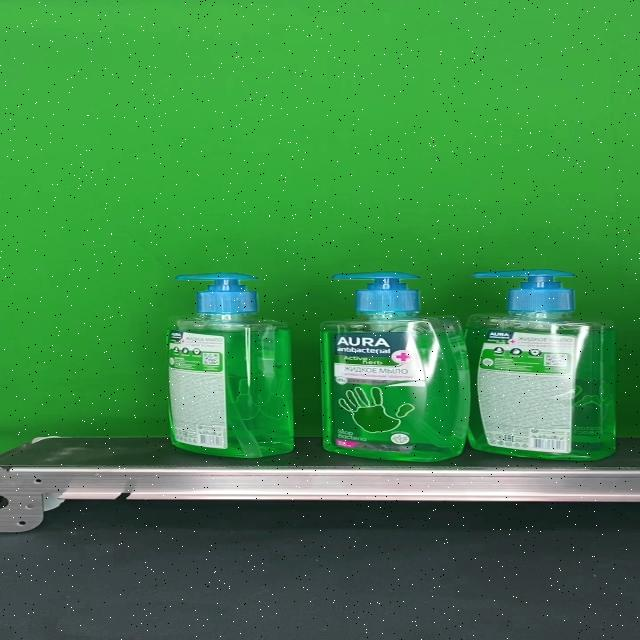Bottle: (466, 269, 617, 461), (321, 270, 470, 462), (164, 272, 294, 458)
Cap: (472, 270, 576, 312), (332, 271, 422, 312), (172, 272, 258, 313)
